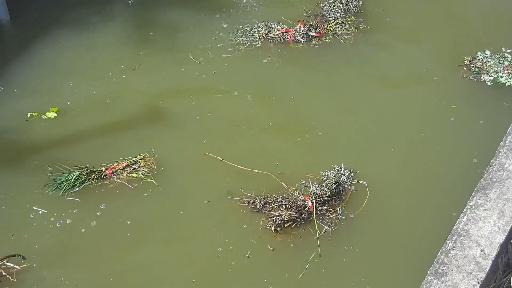leaf: (15, 109, 61, 124)
twig: (200, 151, 364, 272), (30, 141, 167, 210), (220, 17, 389, 54), (460, 45, 509, 89), (0, 233, 35, 284), (286, 0, 380, 13)
